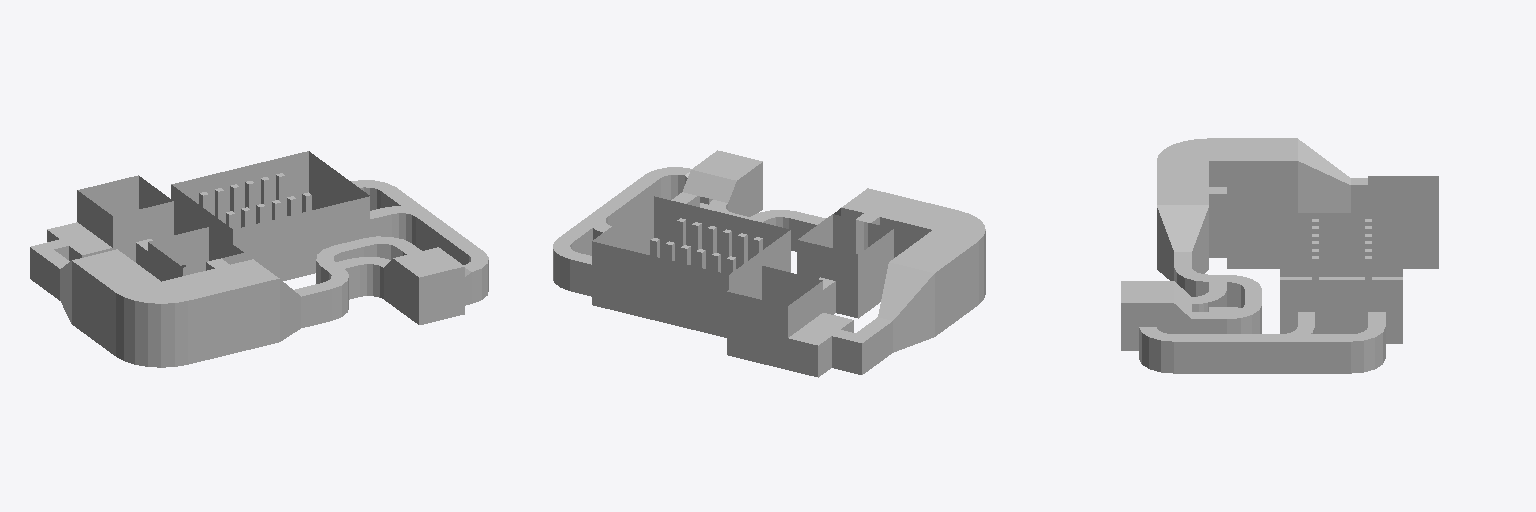
Rendered from spaceStation.obj.
The picture shows the model from 3 angles: view 1: azimuth 30°, elevation 25°; view 2: azimuth 150°, elevation 25°; view 3: azimuth 270°, elevation 25°; orthographic projection.
Visible parts, largest first — view 1: Cube; view 2: Cube; view 3: Cube.
Boxes of the visible parts, <box> form: Cube: <box>30,151,488,367</box>; Cube: <box>553,150,985,377</box>; Cube: <box>1121,138,1438,373</box>.
Size of the model in its own units: 23 by 4 by 18.